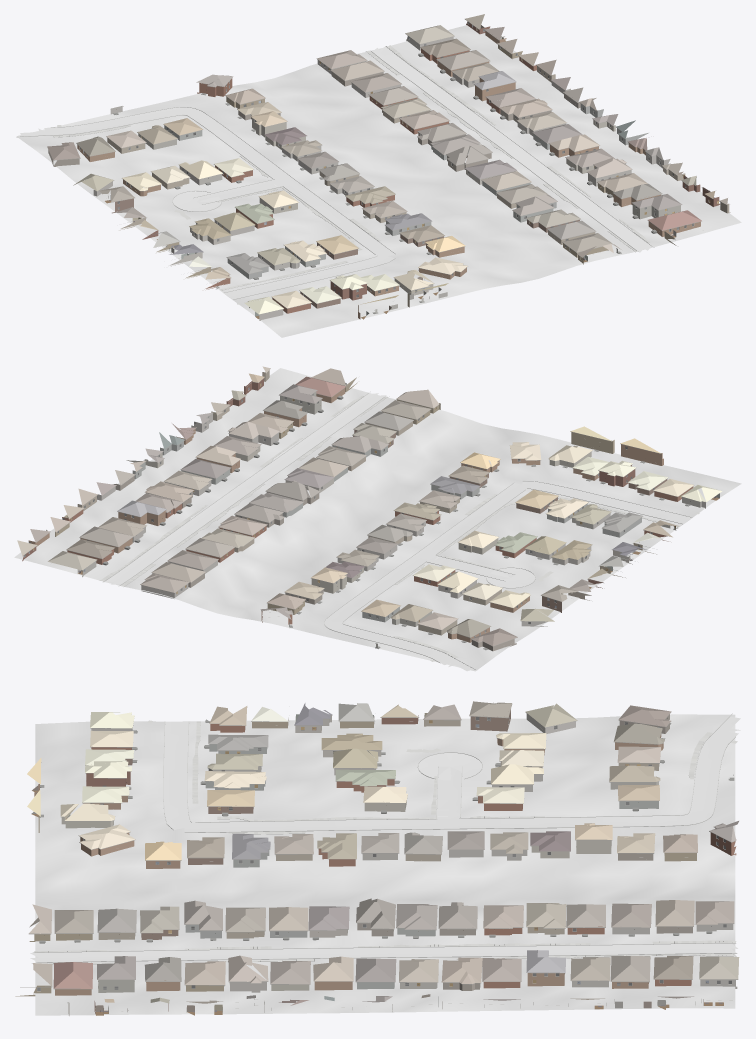
The picture shows the model from 3 angles, top to bottom: view 1: azimuth 30°, elevation 25°; view 2: azimuth 150°, elevation 25°; view 3: azimuth 270°, elevation 25°; orthographic projection. The views are drawn at different scales.
Visible parts, largest first — view 1: ground, roof, concrete, wall, detail, wall_stucco, wall_stone, curb, walk, glass; view 2: ground, roof, concrete, wall, detail, wall_stucco, wall_stone, curb, walk, glass; view 3: ground, roof, concrete, wall, wall_stucco, detail, walk, curb, wall_stone, room, glass.
Boxes of the visible parts, x1=… form: ground: x1=16, y1=25, x2=741, y2=337; roof: x1=47, y1=14, x2=727, y2=314; concrete: x1=20, y1=46, x2=651, y2=299; wall: x1=48, y1=21, x2=730, y2=319; detail: x1=48, y1=19, x2=729, y2=315; wall_stucco: x1=138, y1=103, x2=685, y2=295; wall_stone: x1=93, y1=36, x2=670, y2=320; curb: x1=16, y1=46, x2=654, y2=299; walk: x1=53, y1=45, x2=650, y2=304; glass: x1=80, y1=22, x2=693, y2=297; ground: x1=14, y1=368, x2=741, y2=671; roof: x1=17, y1=366, x2=722, y2=646; concrete: x1=103, y1=393, x2=691, y2=671; wall: x1=22, y1=370, x2=693, y2=651; detail: x1=22, y1=368, x2=705, y2=649; wall_stucco: x1=126, y1=392, x2=641, y2=626; wall_stone: x1=82, y1=412, x2=705, y2=626; curb: x1=103, y1=391, x2=691, y2=669; walk: x1=99, y1=395, x2=699, y2=661; glass: x1=24, y1=393, x2=654, y2=637; ground: x1=35, y1=714, x2=735, y2=1015; roof: x1=27, y1=701, x2=739, y2=1005; concrete: x1=30, y1=716, x2=740, y2=962; wall: x1=15, y1=710, x2=736, y2=1015; wall_stucco: x1=61, y1=715, x2=658, y2=1011; detail: x1=20, y1=704, x2=738, y2=1012; walk: x1=34, y1=720, x2=737, y2=963; curb: x1=32, y1=713, x2=737, y2=964; wall_stone: x1=91, y1=714, x2=737, y2=1012; room: x1=31, y1=713, x2=723, y2=1015; glass: x1=37, y1=717, x2=731, y2=990.
Bounding box in the file's own units: 271 × 13.82 × 260.
